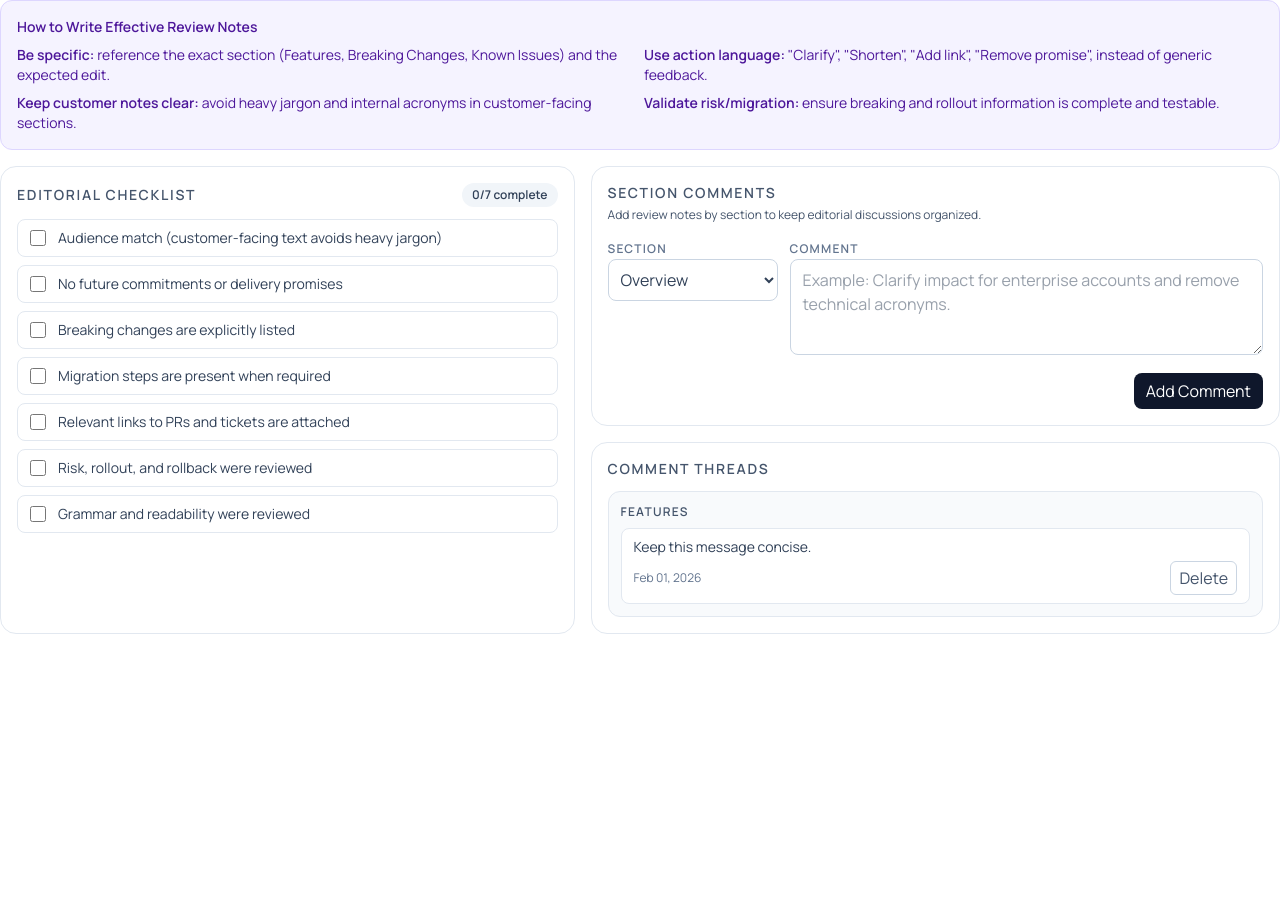
Scenario: ReleaseReviewTab › deletes an existing review comment
The image size is (1280, 900).
Click the button "Delete" at (1204, 578), box 1170,561 -> 1237,595
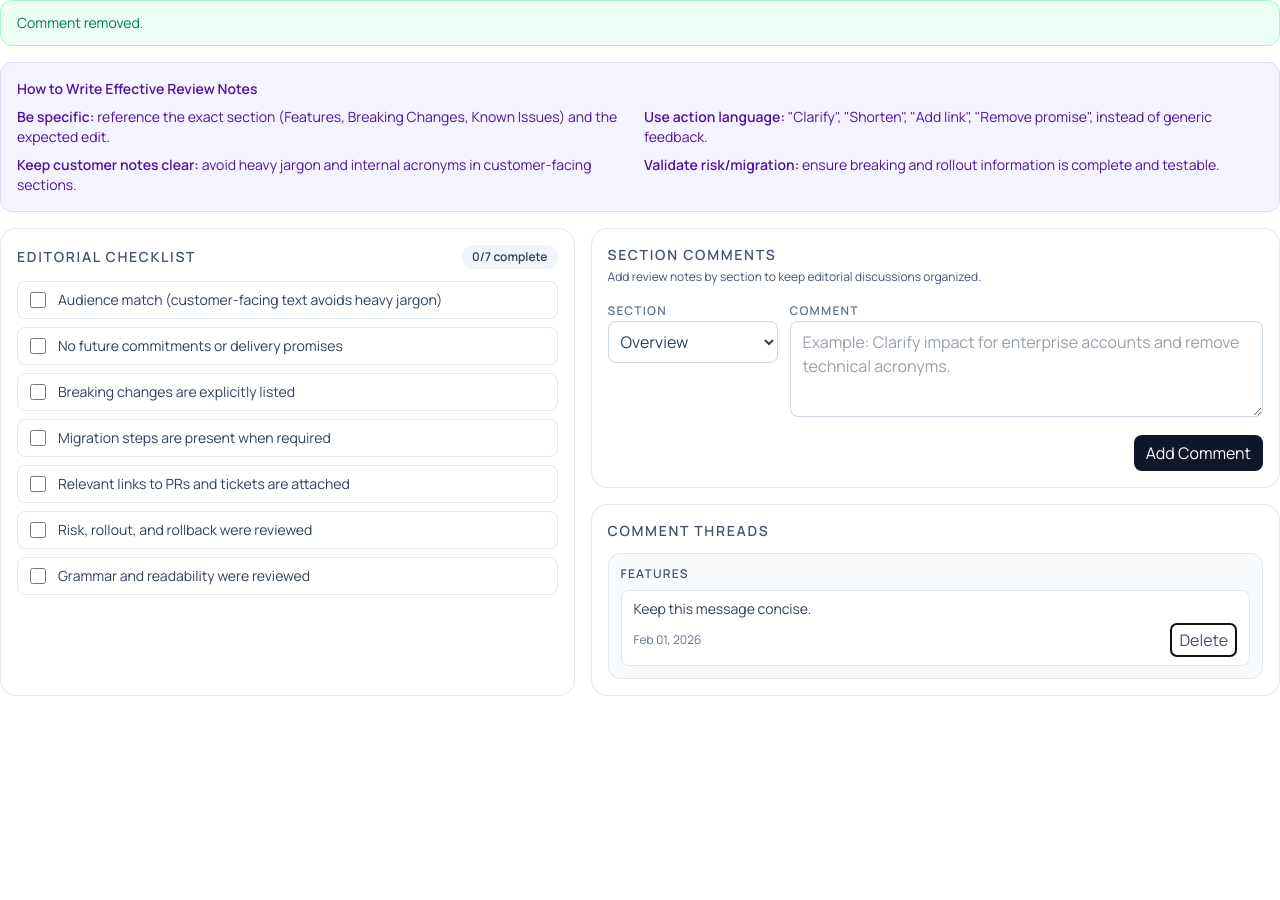
Check: the text "Comment removed." is shown, box 0,0 -> 1279,46
